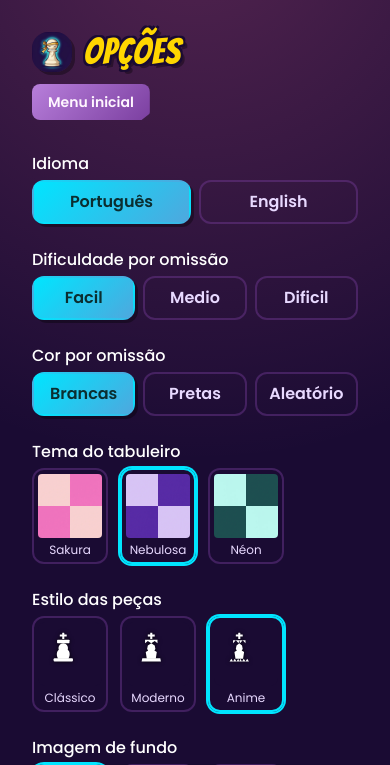
Test: OpcoesPage — toast do seletor de idioma › mostra a confirmação em inglês ao mudar de português para inglês
Click the button "English" at (278, 202), box [199,180,358,224]
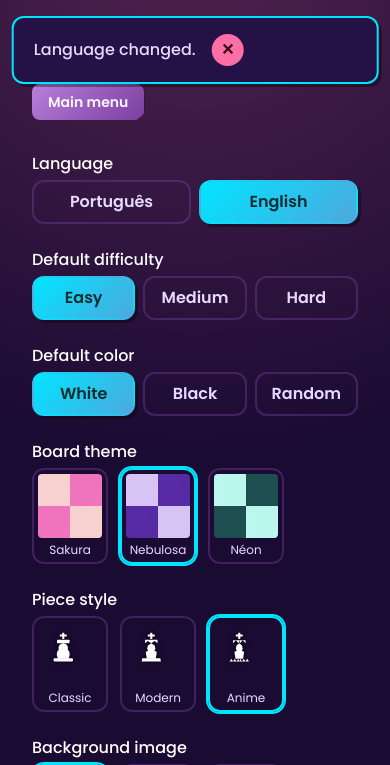
expect the message shows "Language changed.": met, box [34,38,196,61]
